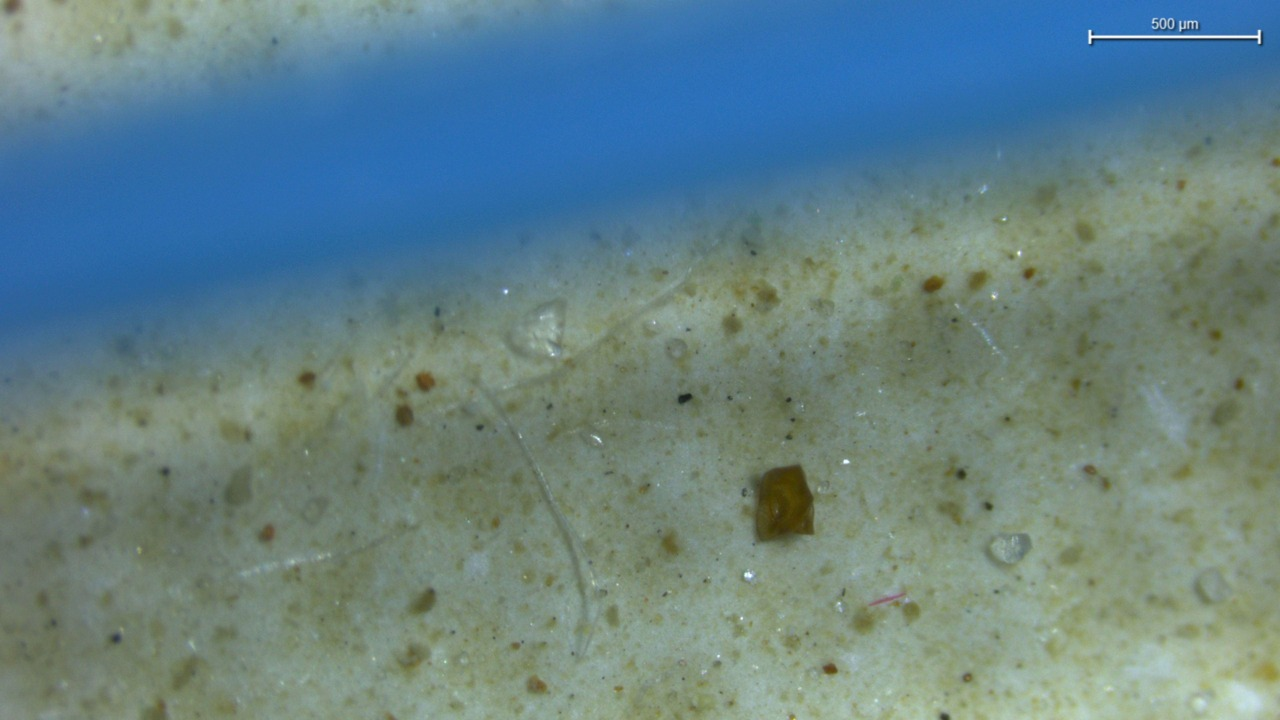microplastic_fragment: (506, 300, 567, 359), (987, 533, 1031, 564)
